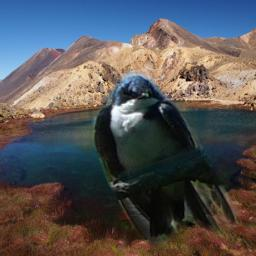Swallow: (89, 71, 242, 255)
